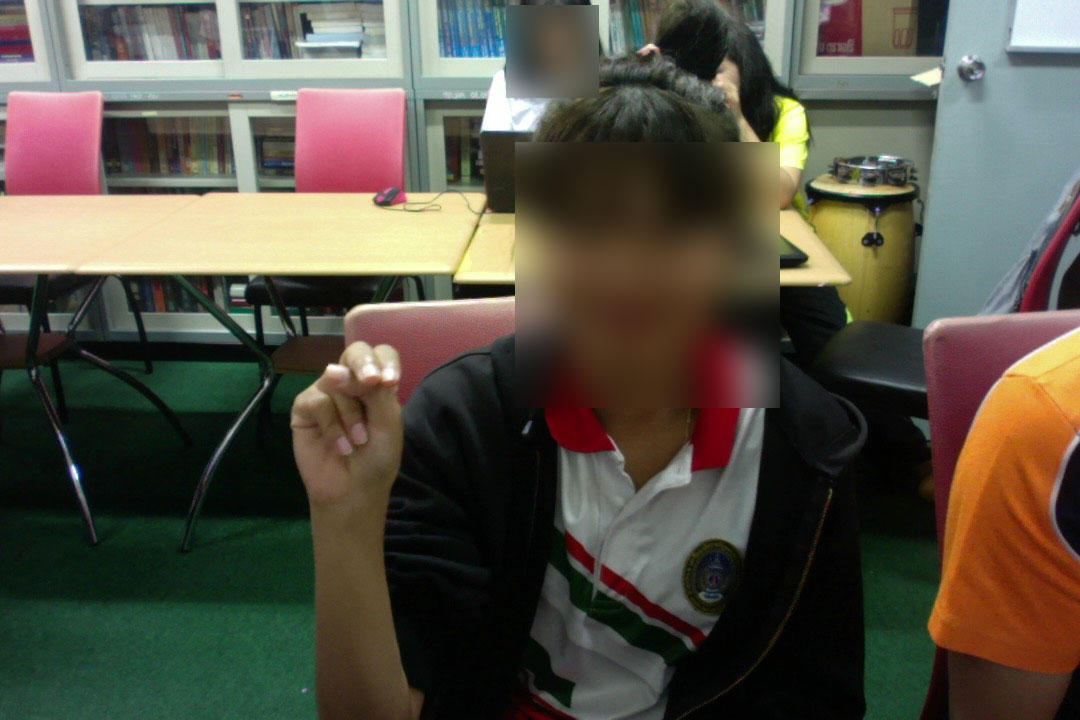nor: (283, 336, 415, 538)
